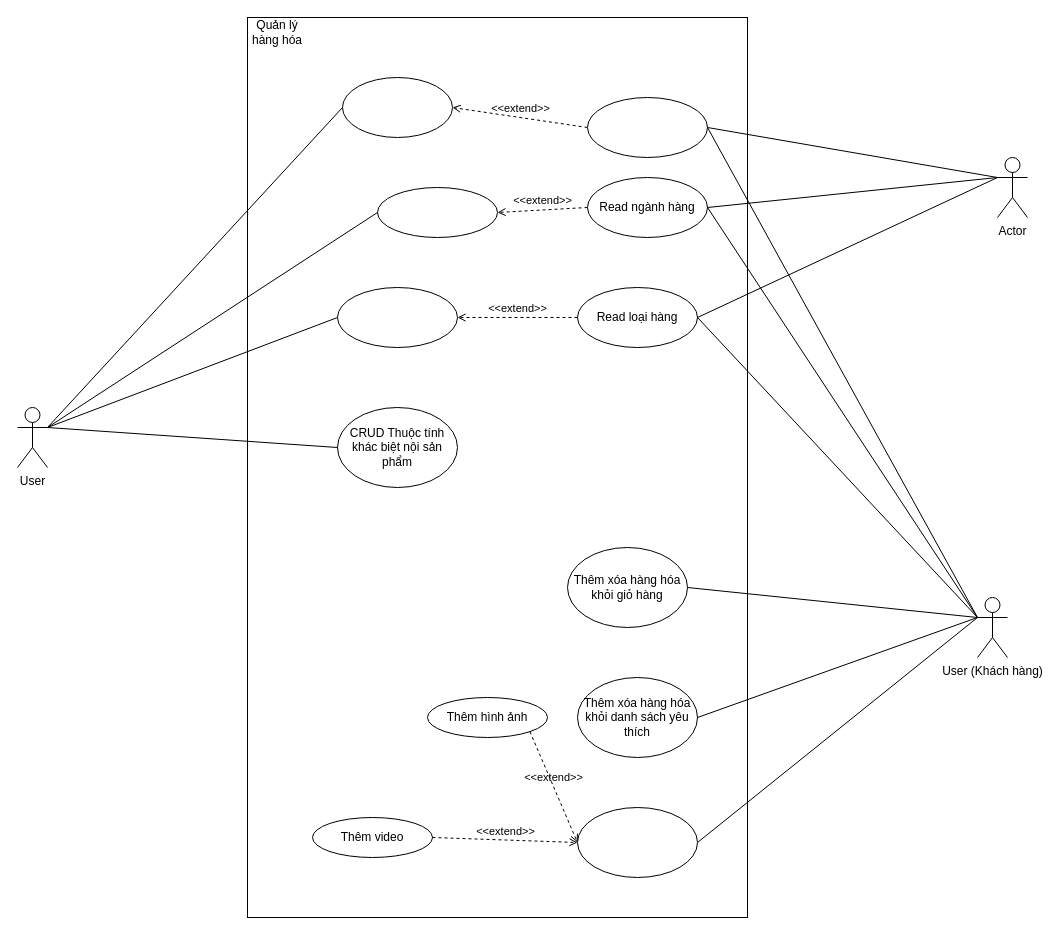
This 1060x935 diagram has some shape labels left out. Here are the shapes that lost their labels. From the top down, the centre of each, then its label:
(x=397, y=107): CRUD Hàng hóa
(x=647, y=127): Read hàng hóa
(x=437, y=212): CRUD Ngành hàng
(x=397, y=317): CRUD Loại Hàng
(x=637, y=842): CRUD đánh giá hàng hóa
